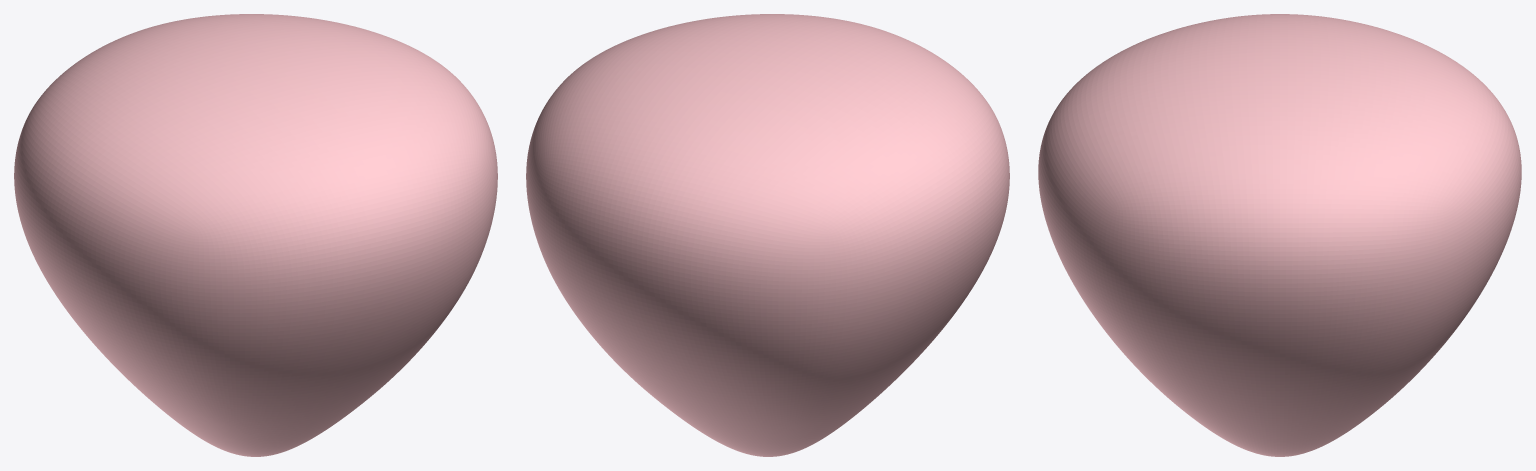
Rendered from Draco-processed.glb.
The picture shows the model from 3 angles, left to right: view 1: azimuth 30°, elevation 25°; view 2: azimuth 150°, elevation 25°; view 3: azimuth 270°, elevation 25°; orthographic projection.
Parts seen in each view (by area): view 1: Cube; view 2: Cube; view 3: Cube.
Boxes of the visible parts, box(x1,y1,x2,y2) form: Cube: box(14, 14, 497, 456); Cube: box(526, 14, 1009, 456); Cube: box(1038, 14, 1521, 456).
Size of the model in its own units: 5.64 by 5.04 by 5.64.
